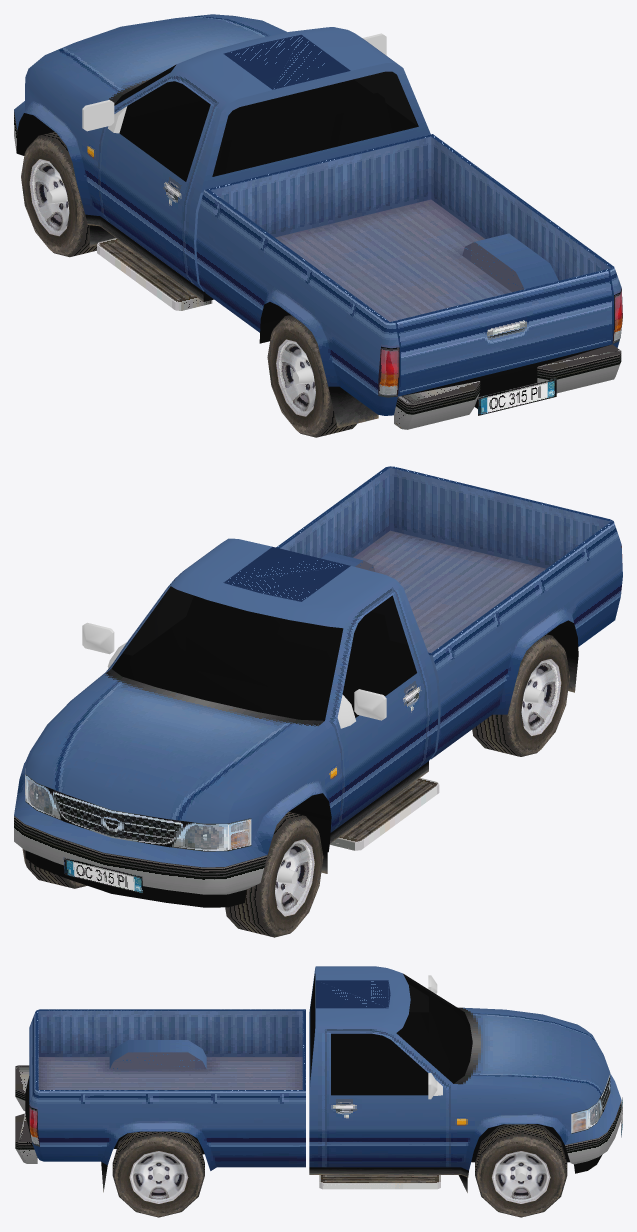
The model's file is othcar-04.glb.
The picture shows the model from 3 angles, top to bottom: view 1: azimuth 30°, elevation 25°; view 2: azimuth 150°, elevation 25°; view 3: azimuth 270°, elevation 25°; orthographic projection. The views are drawn at different scales.
Parts seen in each view (by area): view 1: body, wheel RL, wheel FL; view 2: body, wheel RL, wheel FL; view 3: body, wheel RR, wheel FR.
Boxes of the visible parts, x1=… form: body: x1=14, y1=14, x2=622, y2=429; wheel RL: x1=21, y1=132, x2=96, y2=257; wheel FL: x1=267, y1=315, x2=356, y2=437; body: x1=14, y1=466, x2=622, y2=907; wheel RL: x1=225, y1=812, x2=323, y2=937; wheel FL: x1=472, y1=634, x2=569, y2=756; body: x1=15, y1=966, x2=622, y2=1192; wheel RR: x1=475, y1=1124, x2=567, y2=1217; wheel FR: x1=112, y1=1131, x2=204, y2=1217.
Size of the model in its own units: 1.95 by 1.52 by 4.62.
21 materials, 14 textured.
